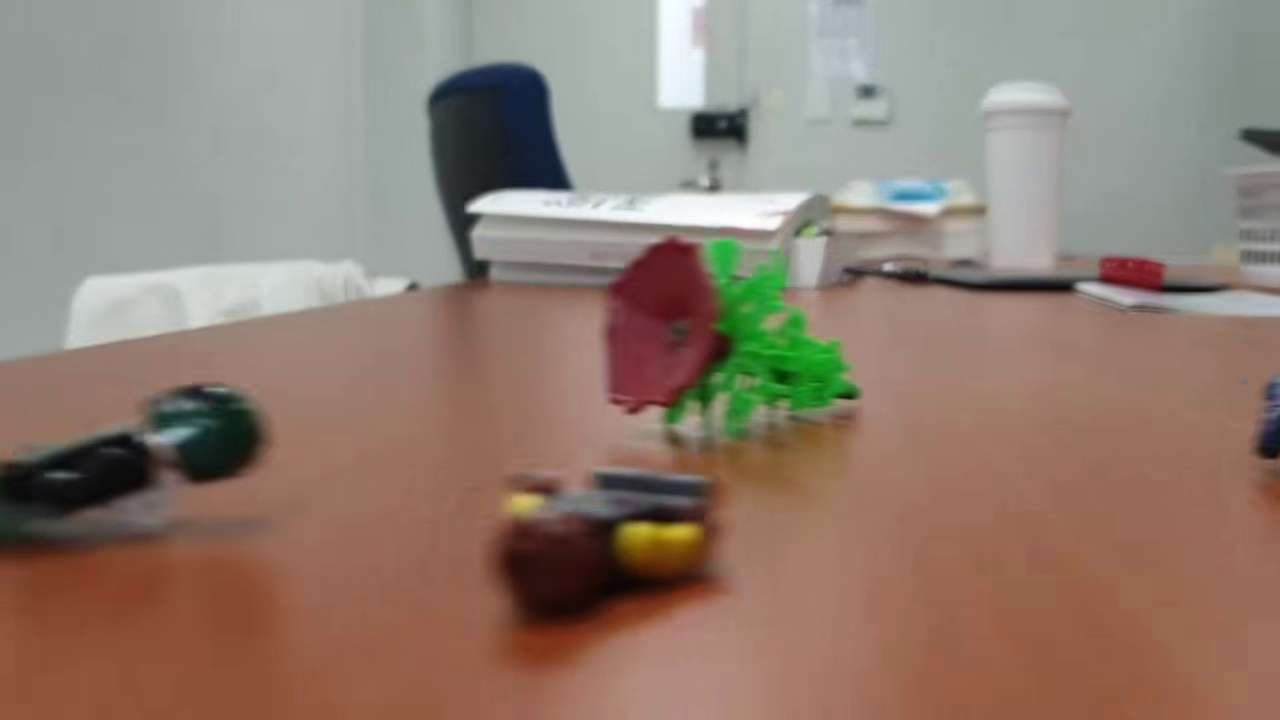people: (1, 375, 273, 545), (482, 459, 726, 622)
tree: (601, 237, 868, 450)
